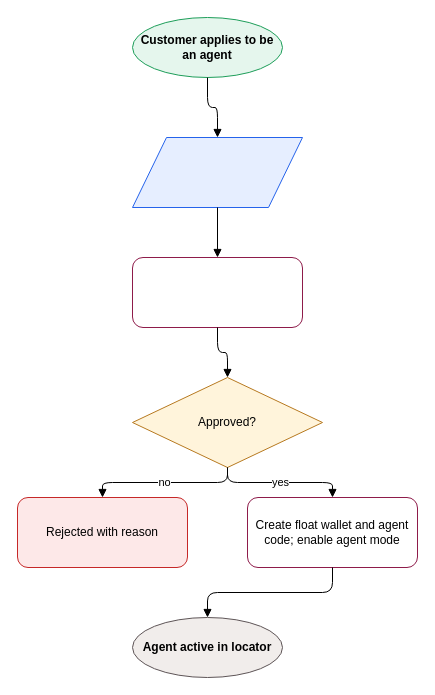
The diagram is 435 pixels wide and 695 high, and some of its shapes have lost their labels. Each missing label, with the centre of its shape:
"Identity, location, business details, photos" goes at (217,172).
"Staff review and training" goes at (217,292).
